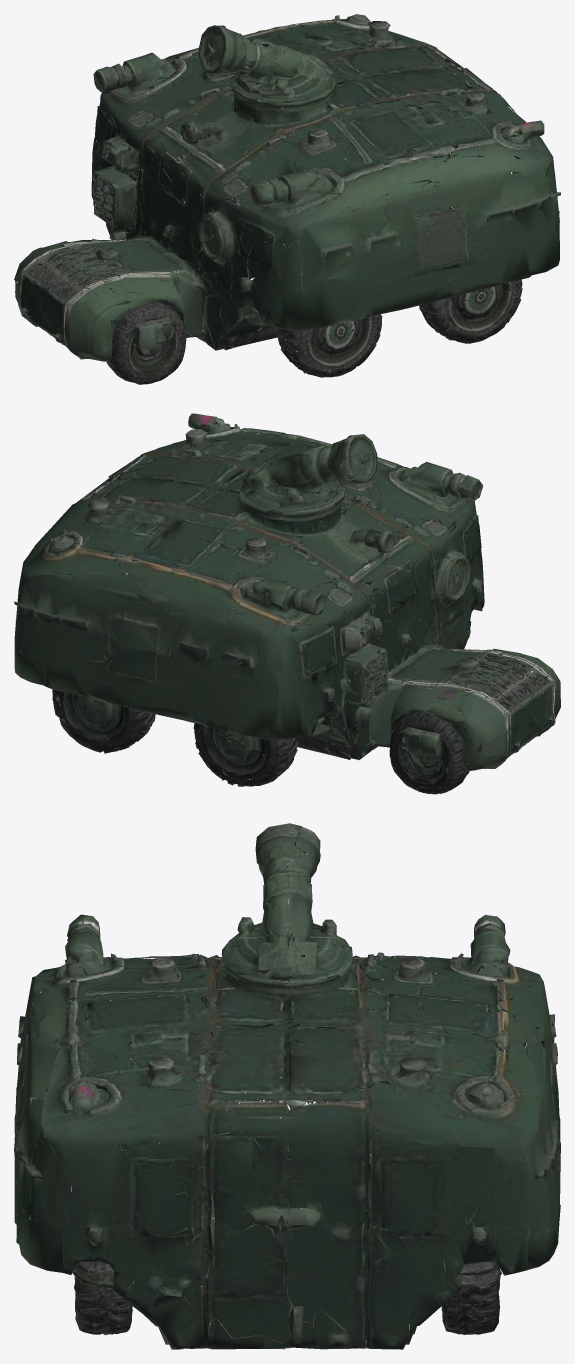
File: motor_pool.glb
3 renders of one model, top to bottom at view 1: azimuth 30°, elevation 25°; view 2: azimuth 150°, elevation 25°; view 3: azimuth 270°, elevation 25°, orthographic. The views are drawn at different scales.
Parts seen in each view (by area): view 1: Mesh_0; view 2: Mesh_0; view 3: Mesh_0.
Part boxes in pixels (bbox=[...]): Mesh_0: bbox=[14, 14, 560, 384]; Mesh_0: bbox=[14, 413, 560, 794]; Mesh_0: bbox=[14, 823, 560, 1349].
Bounding box in the file's own units: 1.9 × 1.23 × 1.55.
Materials: 1 (1 with a texture image).
